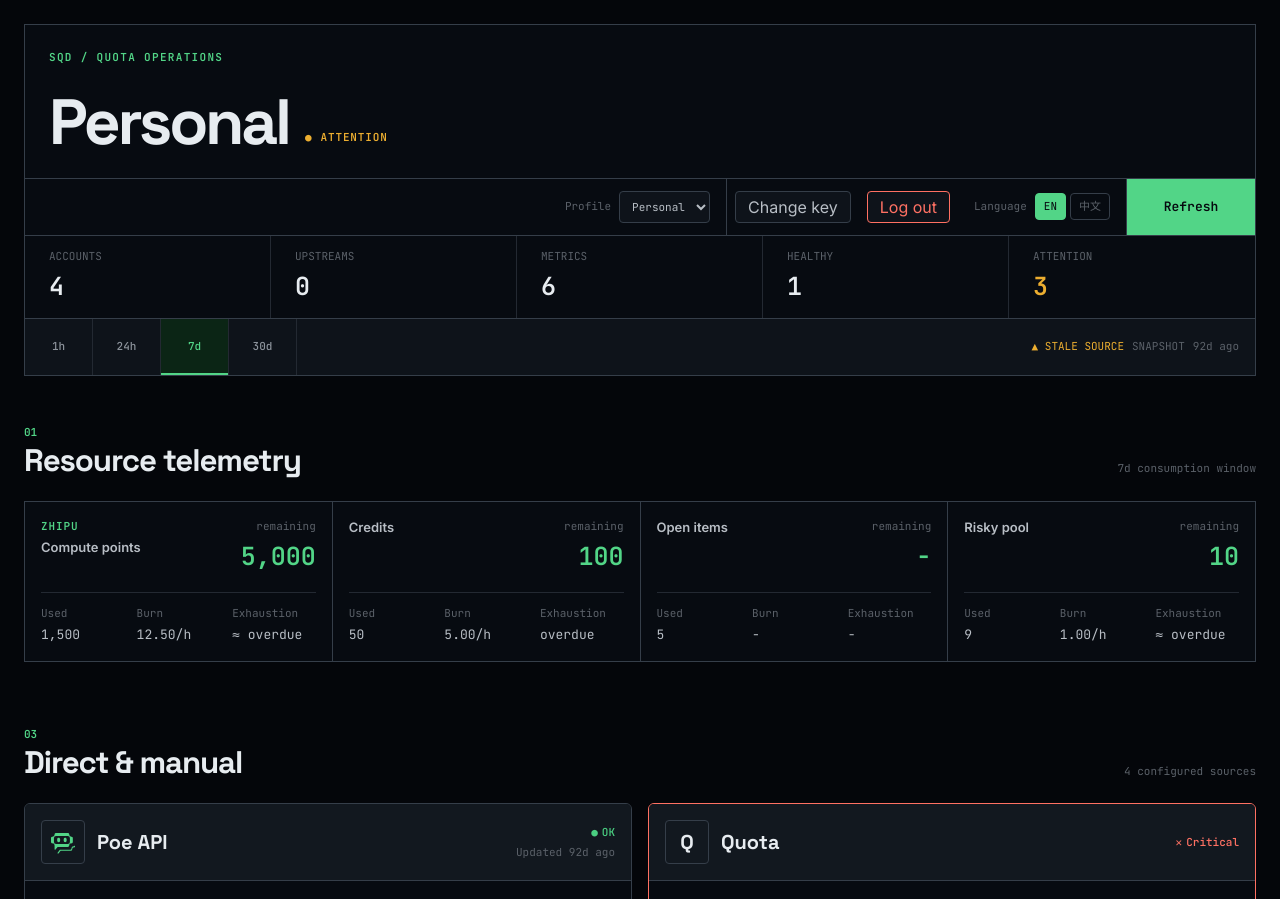
Test case: API 401 after authenticated load transitions to expired, preserves range=7d
Check: the heading "Personal" is shown, box [49,90,289,154]
Click the button "Refresh": (1191, 206) [1127,178,1255,234]
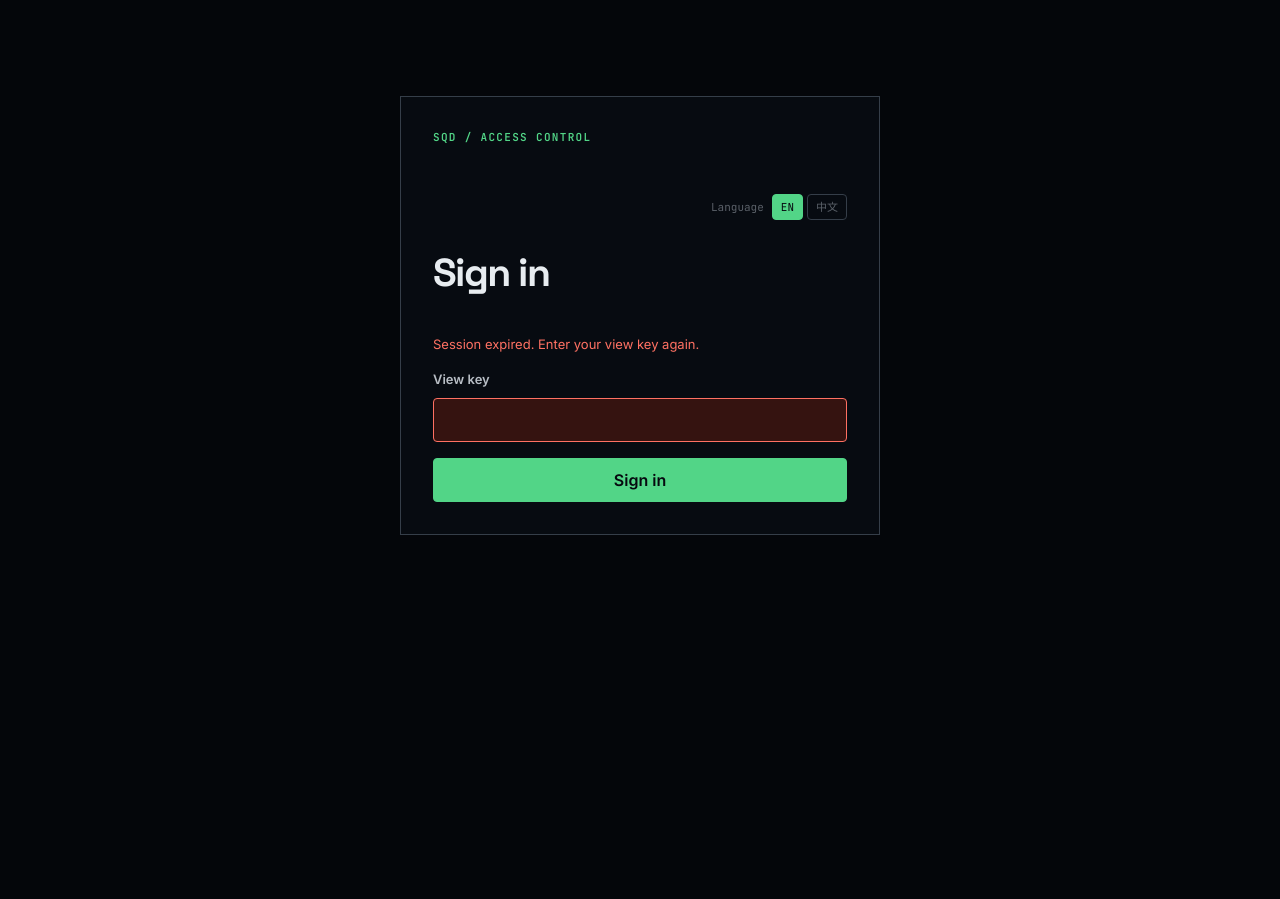
Check: the text "Session expired. Enter your view key again." is shown, box [433,336,699,352]
